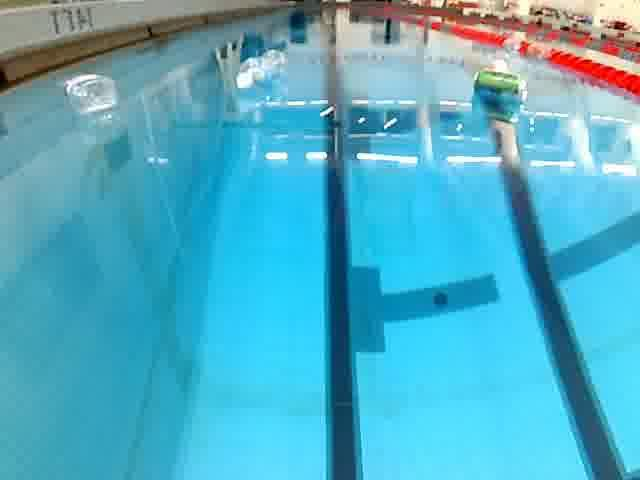Bottle: (61, 66, 128, 119), (229, 46, 293, 95)
Can: (469, 66, 532, 110)
